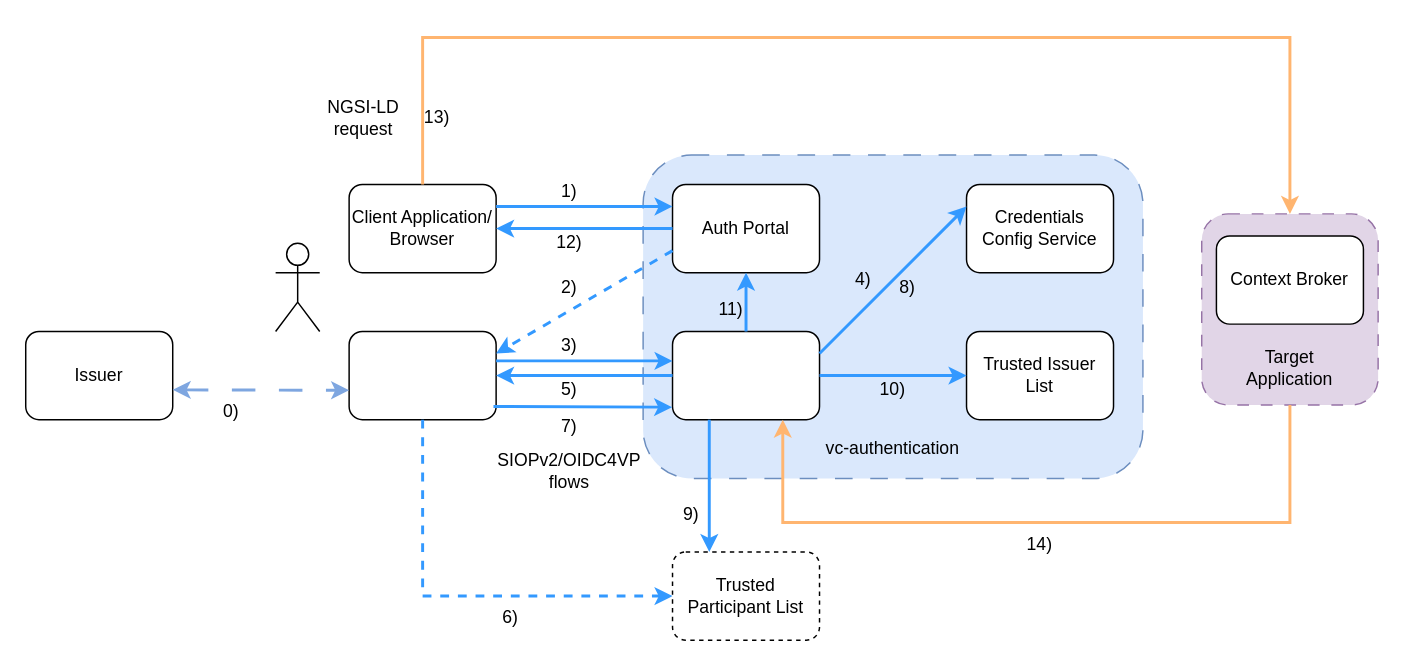
This 1404x666 diagram has some shape labels left out. The shapes that lost their labels are listed below. From the top down, each one's box as (x1, y1, x2, y2) in pixels, then its label:
(274, 242, 320, 331): USER
(348, 330, 496, 420): Wallet
(671, 330, 820, 420): Verifier
